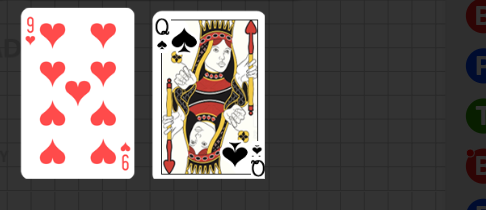9H: (24, 15, 36, 46)
